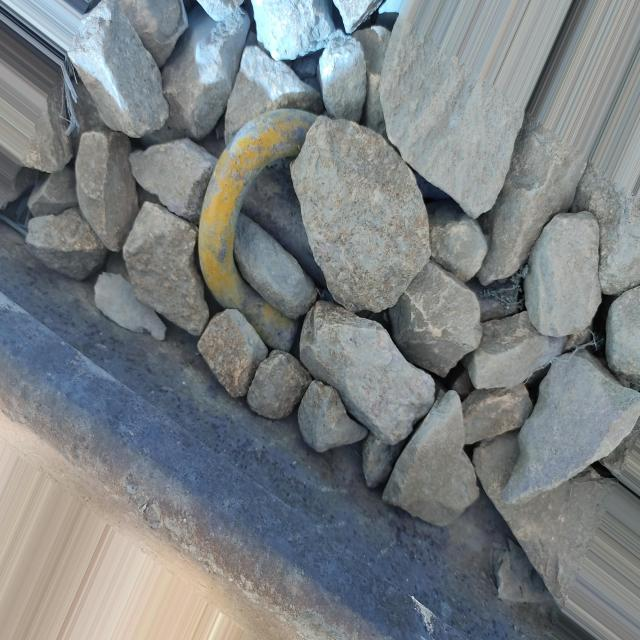Good Fasteners: (198, 109, 325, 352)
